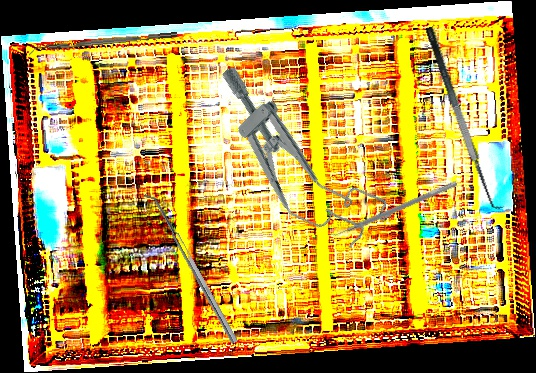Chopper: (28, 32, 178, 57)
Spatula Surgical: (423, 21, 509, 214), (141, 189, 239, 348), (328, 174, 458, 242)
Speculum: (186, 53, 398, 267)
